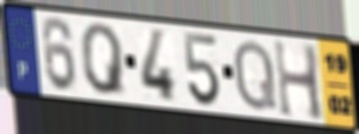4: (138, 27, 180, 104)
5: (181, 28, 223, 109)
6: (40, 15, 78, 95)
H: (271, 36, 327, 124)
Q: (78, 21, 129, 97), (232, 37, 280, 114)
